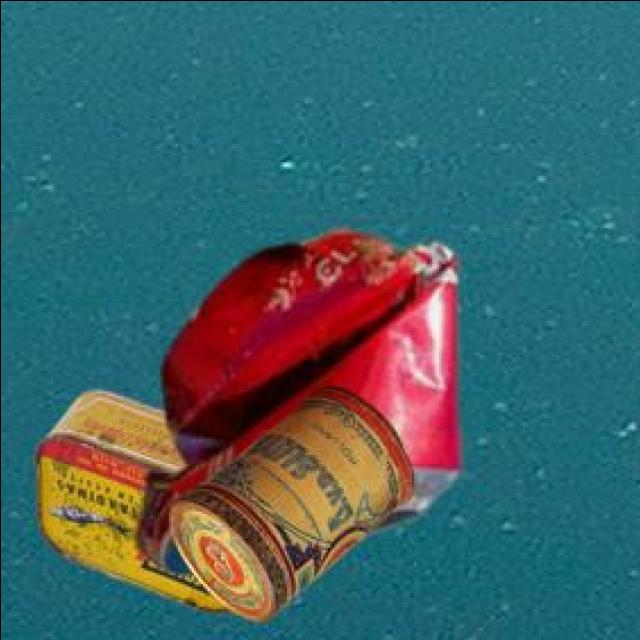logam: (133, 226, 453, 571), (165, 382, 410, 616), (31, 387, 228, 609)
